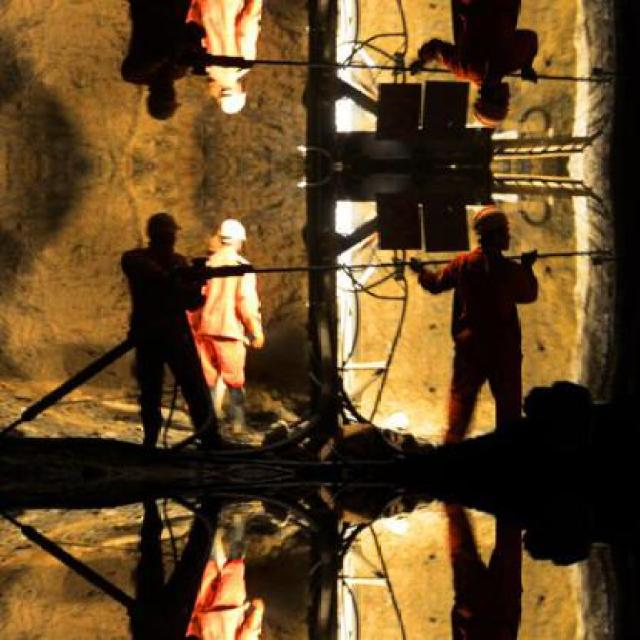helmet: (472, 201, 513, 254), (472, 79, 513, 131), (142, 81, 184, 126), (142, 207, 184, 251), (214, 215, 243, 252), (214, 80, 243, 117)
